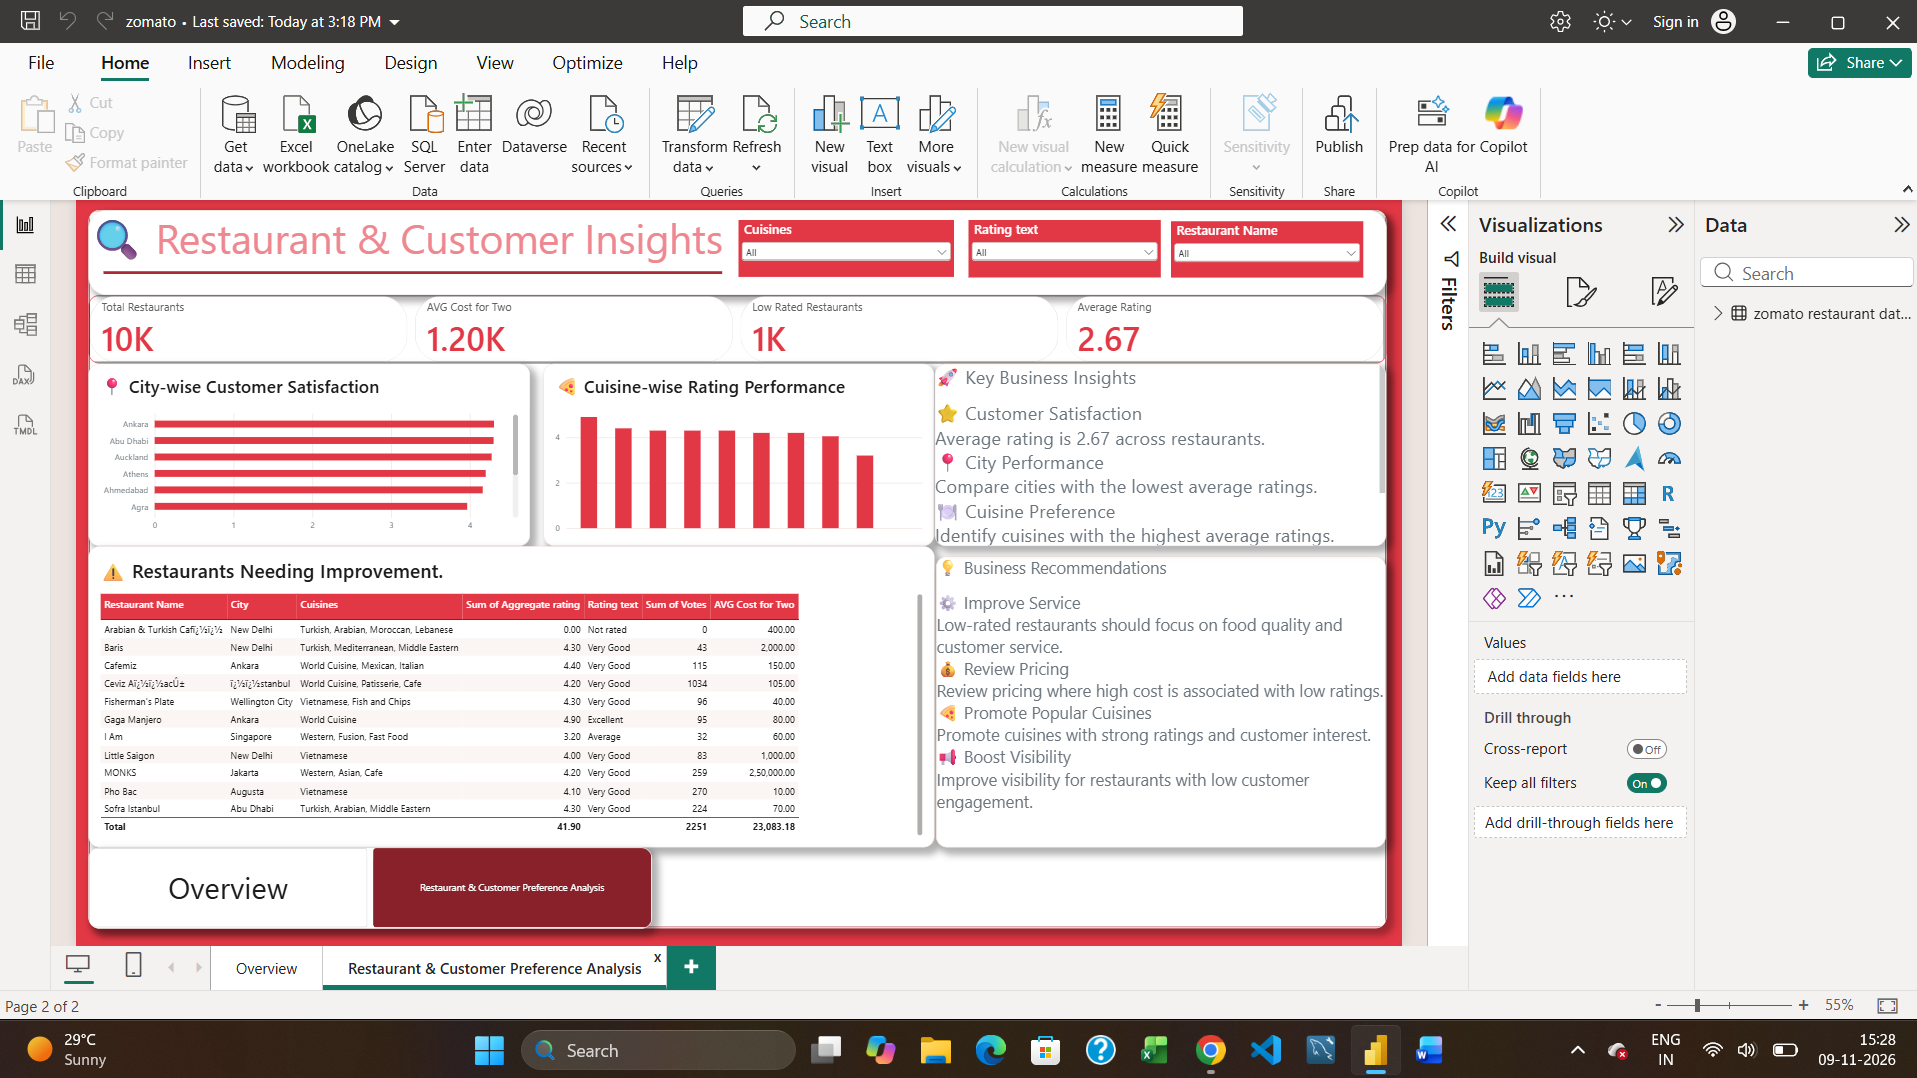

The page's visual inventory and layout, read from the dashboard file:
{"tool":"powerbi","page":{"name":"Restaurant & Customer Preference Analysis","canvas":[1920,1080],"ordinal":1},"visuals":[{"type":"shape","box":[18.7,15,1879.2,1039.7],"z":0},{"type":"textbox","box":[18.7,15,1879.2,123.4],"z":1000},{"type":"cardVisual","fields":{"Data":["zomato restaurant dataset.Total Restaurants","zomato restaurant dataset.AVG Cost for Two","zomato restaurant dataset.Low Rated Restaurants","zomato restaurant dataset.Average Rating"]},"box":[18.7,138.4,1879.2,99.1],"z":2000},{"type":"clusteredBarChart","title":"📍 City-wise Customer Satisfaction","fields":{"Category":["zomato restaurant dataset.City"],"Y":["Avg(zomato restaurant dataset.Aggregate rating)"]},"box":[18.7,237.5,639.5,263.7],"z":4000},{"type":"clusteredColumnChart","title":"🍕 Cuisine-wise Rating Performance","fields":{"Category":["zomato restaurant dataset.Cuisines"],"Y":["Avg(zomato restaurant dataset.Aggregate rating)"]},"box":[676.9,237.5,565.6,263.8],"z":5000},{"type":"tableEx","title":"⚠️ Restaurants Needing Improvement.","fields":{"Values":["zomato restaurant dataset.Restaurant Name","zomato restaurant dataset.City","zomato restaurant dataset.Cuisines","Sum(zomato restaurant dataset.Aggregate rating)","zomato restaurant dataset.Rating text","Sum(zomato restaurant dataset.Votes)","zomato restaurant dataset.AVG Cost for Two"]},"box":[18.1,501.3,1225.1,436.1],"z":6000},{"type":"textbox","box":[1245,515.8,651.5,421.7],"z":7000},{"type":"textbox","box":[1243.2,237.1,653.3,264.2],"z":8000},{"type":"slicer","fields":{"Values":["zomato restaurant dataset.Cuisines"]},"box":[959.1,29,312.3,82.3],"z":9000},{"type":"slicer","fields":{"Values":["zomato restaurant dataset.Rating text"]},"box":[1292.1,29,278.7,83.2],"z":10000},{"type":"shape","box":[39.3,72.9,895.7,65.4],"z":11000},{"type":"pageNavigator","box":[18.1,937.4,816.2,117.6],"z":12000},{"type":"slicer","fields":{"Values":["zomato restaurant dataset.Restaurant Name"]},"box":[1585.3,30.8,278.7,81.4],"z":13000}]}

Visuals, with their boxes on the page's 1920x1080 design canvas (x1, y1, x2, y2). These are canvas units, not pixel positions in the 1917x1078 screenshot, which may show the page scaled, cropped or inside an application window:
shape: left=19, top=15, right=1898, bottom=1055
textbox: left=19, top=15, right=1898, bottom=138
cardVisual - zomato restaurant dataset.Total Restaurants x zomato restaurant dataset.AVG Cost for Two: left=19, top=138, right=1898, bottom=238
"📍 City-wise Customer Satisfaction" clusteredBarChart: left=19, top=238, right=658, bottom=501
"🍕 Cuisine-wise Rating Performance" clusteredColumnChart: left=677, top=238, right=1242, bottom=501
"⚠️ Restaurants Needing Improvement." tableEx: left=18, top=501, right=1243, bottom=937
textbox: left=1245, top=516, right=1896, bottom=938
textbox: left=1243, top=237, right=1896, bottom=501
slicer - zomato restaurant dataset.Cuisines: left=959, top=29, right=1271, bottom=111
slicer - zomato restaurant dataset.Rating text: left=1292, top=29, right=1571, bottom=112
shape: left=39, top=73, right=935, bottom=138
pageNavigator: left=18, top=937, right=834, bottom=1055
slicer - zomato restaurant dataset.Restaurant Name: left=1585, top=31, right=1864, bottom=112
